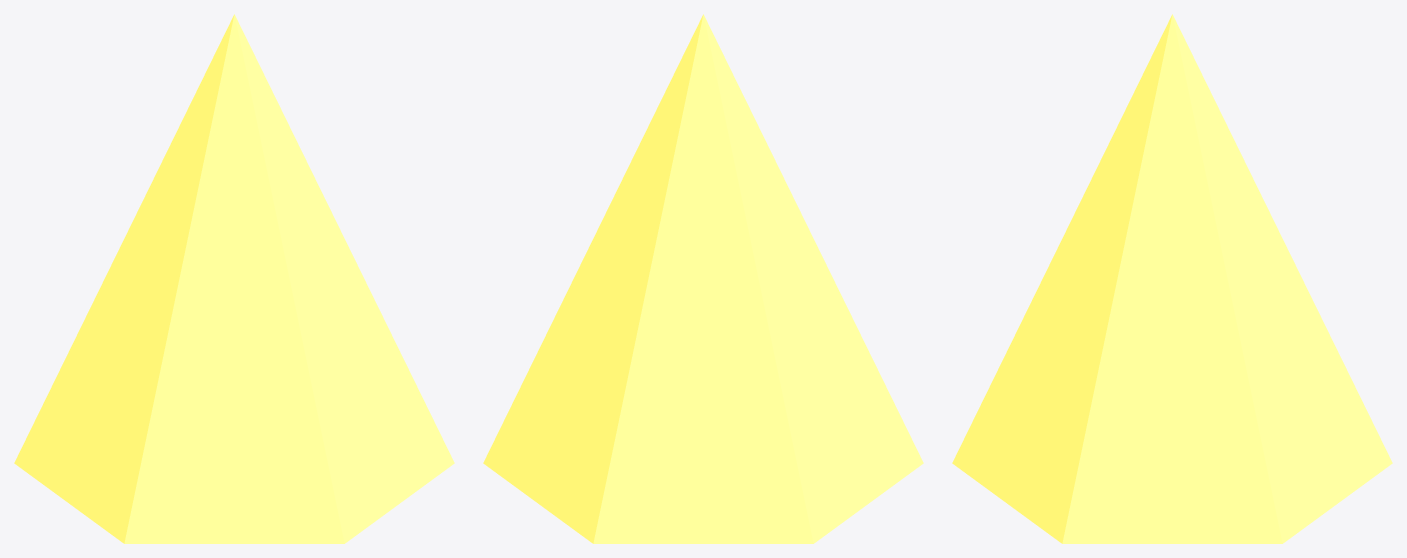
File: ship.glb
3 renders of one model, left to right at view 1: azimuth 30°, elevation 25°; view 2: azimuth 150°, elevation 25°; view 3: azimuth 270°, elevation 25°, orthographic.
Visible parts, largest first — view 1: Ship; view 2: Ship; view 3: Ship.
Boxes of the visible parts, bbox=[...] form: Ship: bbox=[14, 14, 454, 543]; Ship: bbox=[483, 14, 923, 543]; Ship: bbox=[952, 14, 1392, 543].
Size of the model in its own units: 1.39 by 1.8 by 1.6.
